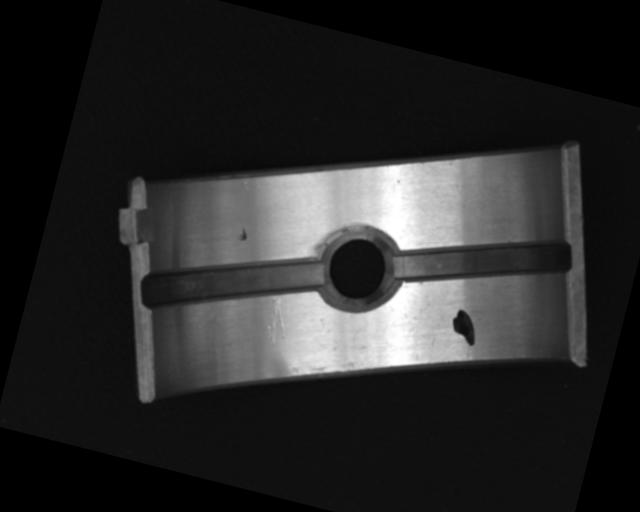blot: (447, 307, 483, 346)
bruise: (237, 227, 250, 242)
gap: (139, 219, 327, 347), (392, 201, 575, 315)
hole: (312, 217, 400, 315)
nick: (262, 296, 295, 348)
